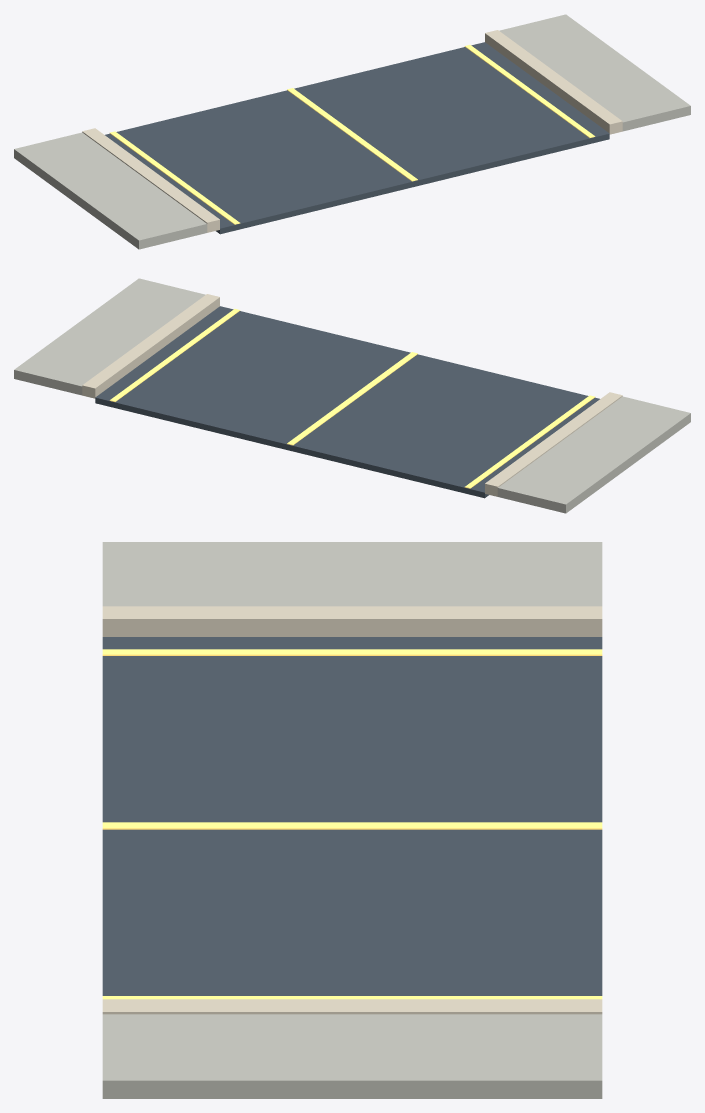
File: SM_SolCity_RoadSpline_01.fbx
3 renders of one model, top to bottom at view 1: azimuth 30°, elevation 25°; view 2: azimuth 150°, elevation 25°; view 3: azimuth 270°, elevation 25°, orthographic. The views are drawn at different scales.
Parts seen in each view (by area): view 1: Road_Asphalt, Road_Sidewalk_-1, Road_Sidewalk_1, Road_Curb_1, Road_Curb_-1, Road_CenterLine, Road_EdgeLine_-1, Road_EdgeLine_1; view 2: Road_Asphalt, Road_Sidewalk_-1, Road_Sidewalk_1, Road_Curb_1, Road_Curb_-1, Road_CenterLine, Road_EdgeLine_-1, Road_EdgeLine_1; view 3: Road_Asphalt, Road_Sidewalk_1, Road_Sidewalk_-1, Road_Curb_-1, Road_Curb_1, Road_CenterLine, Road_EdgeLine_-1, Road_EdgeLine_1.
Boxes of the visible parts, left/top/right/bottom form: Road_Asphalt: left=105, top=42, right=609, bottom=234; Road_Sidewalk_-1: left=14, top=132, right=207, bottom=249; Road_Sidewalk_1: left=499, top=14, right=690, bottom=131; Road_Curb_1: left=485, top=30, right=622, bottom=134; Road_Curb_-1: left=82, top=128, right=219, bottom=232; Road_CenterLine: left=287, top=88, right=417, bottom=181; Road_EdgeLine_-1: left=110, top=131, right=240, bottom=224; Road_EdgeLine_1: left=464, top=45, right=595, bottom=137; Road_Asphalt: left=95, top=306, right=599, bottom=498; Road_Sidewalk_-1: left=497, top=396, right=690, bottom=513; Road_Sidewalk_1: left=14, top=278, right=205, bottom=395; Road_Curb_1: left=82, top=294, right=219, bottom=398; Road_Curb_-1: left=485, top=392, right=622, bottom=496; Road_CenterLine: left=287, top=352, right=417, bottom=445; Road_EdgeLine_-1: left=464, top=395, right=594, bottom=488; Road_EdgeLine_1: left=109, top=309, right=240, bottom=401; Road_Asphalt: left=102, top=637, right=602, bottom=995; Road_Sidewalk_1: left=102, top=1014, right=602, bottom=1098; Road_Sidewalk_-1: left=102, top=542, right=602, bottom=606; Road_Curb_-1: left=102, top=606, right=602, bottom=636; Road_Curb_1: left=102, top=999, right=602, bottom=1014; Road_CenterLine: left=102, top=822, right=602, bottom=829; Road_EdgeLine_-1: left=102, top=649, right=602, bottom=655; Road_EdgeLine_1: left=102, top=996, right=602, bottom=999.
Size of the model in its own units: 10.2 by 4 by 0.26.
